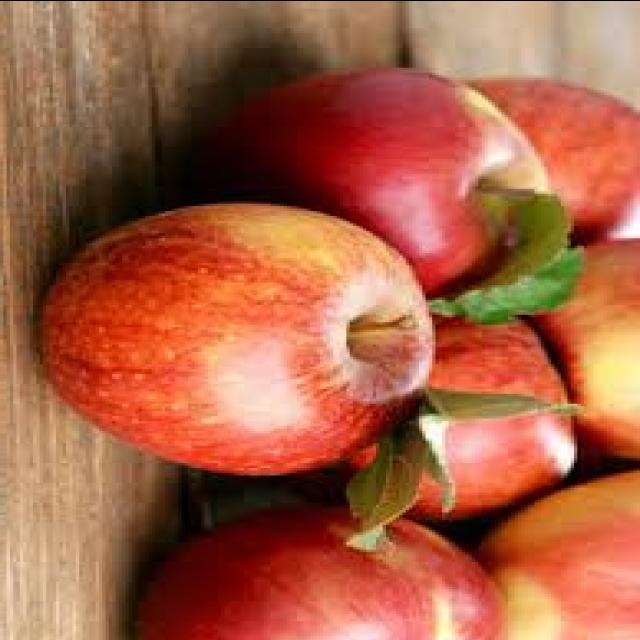apple: (36, 192, 446, 476)
